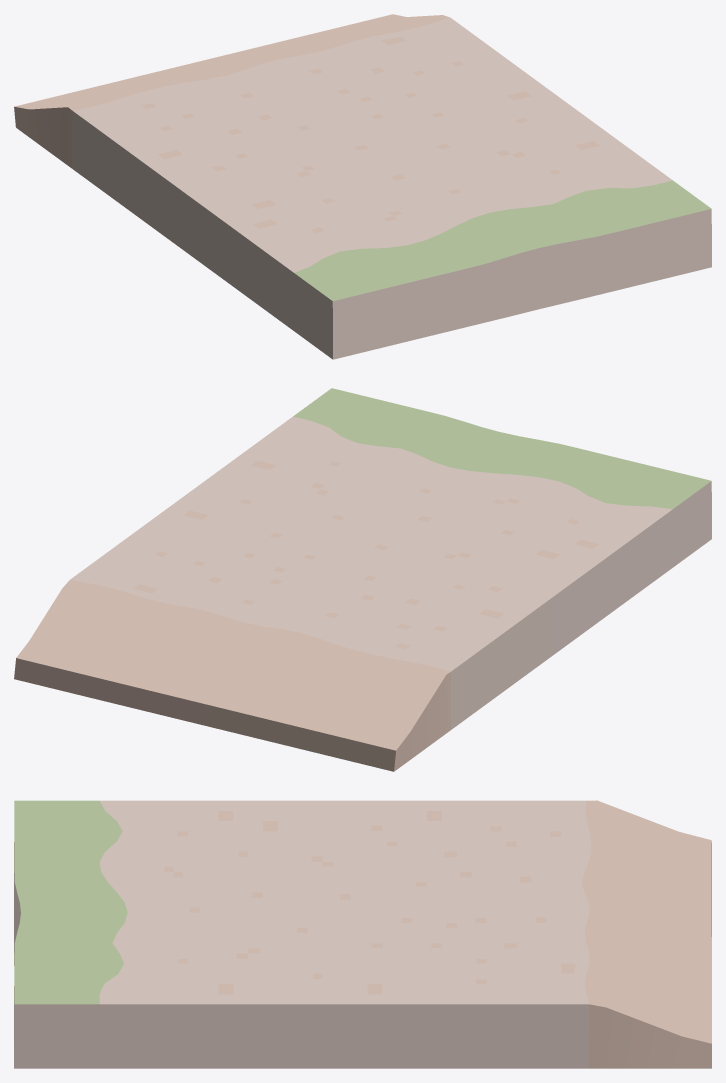
Rendered from base area.fbx.
3 renders of one model, top to bottom at view 1: azimuth 30°, elevation 25°; view 2: azimuth 150°, elevation 25°; view 3: azimuth 270°, elevation 25°, orthographic. The views are drawn at different scales.
Parts seen in each view (by area): view 1: beach; view 2: beach; view 3: beach.
Boxes of the visible parts, left/top/right/bottom form: beach: left=14, top=14, right=711, bottom=359; beach: left=14, top=388, right=711, bottom=771; beach: left=14, top=800, right=711, bottom=1068.
Bounding box in the file's own units: 49.31 × 7.38 × 71.09.
